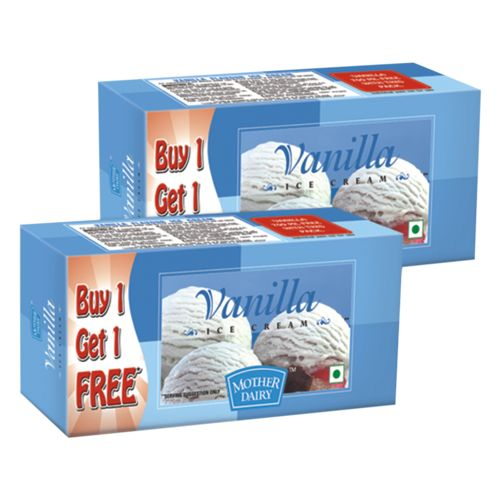Mother_Dairy: (223, 363, 295, 414)
